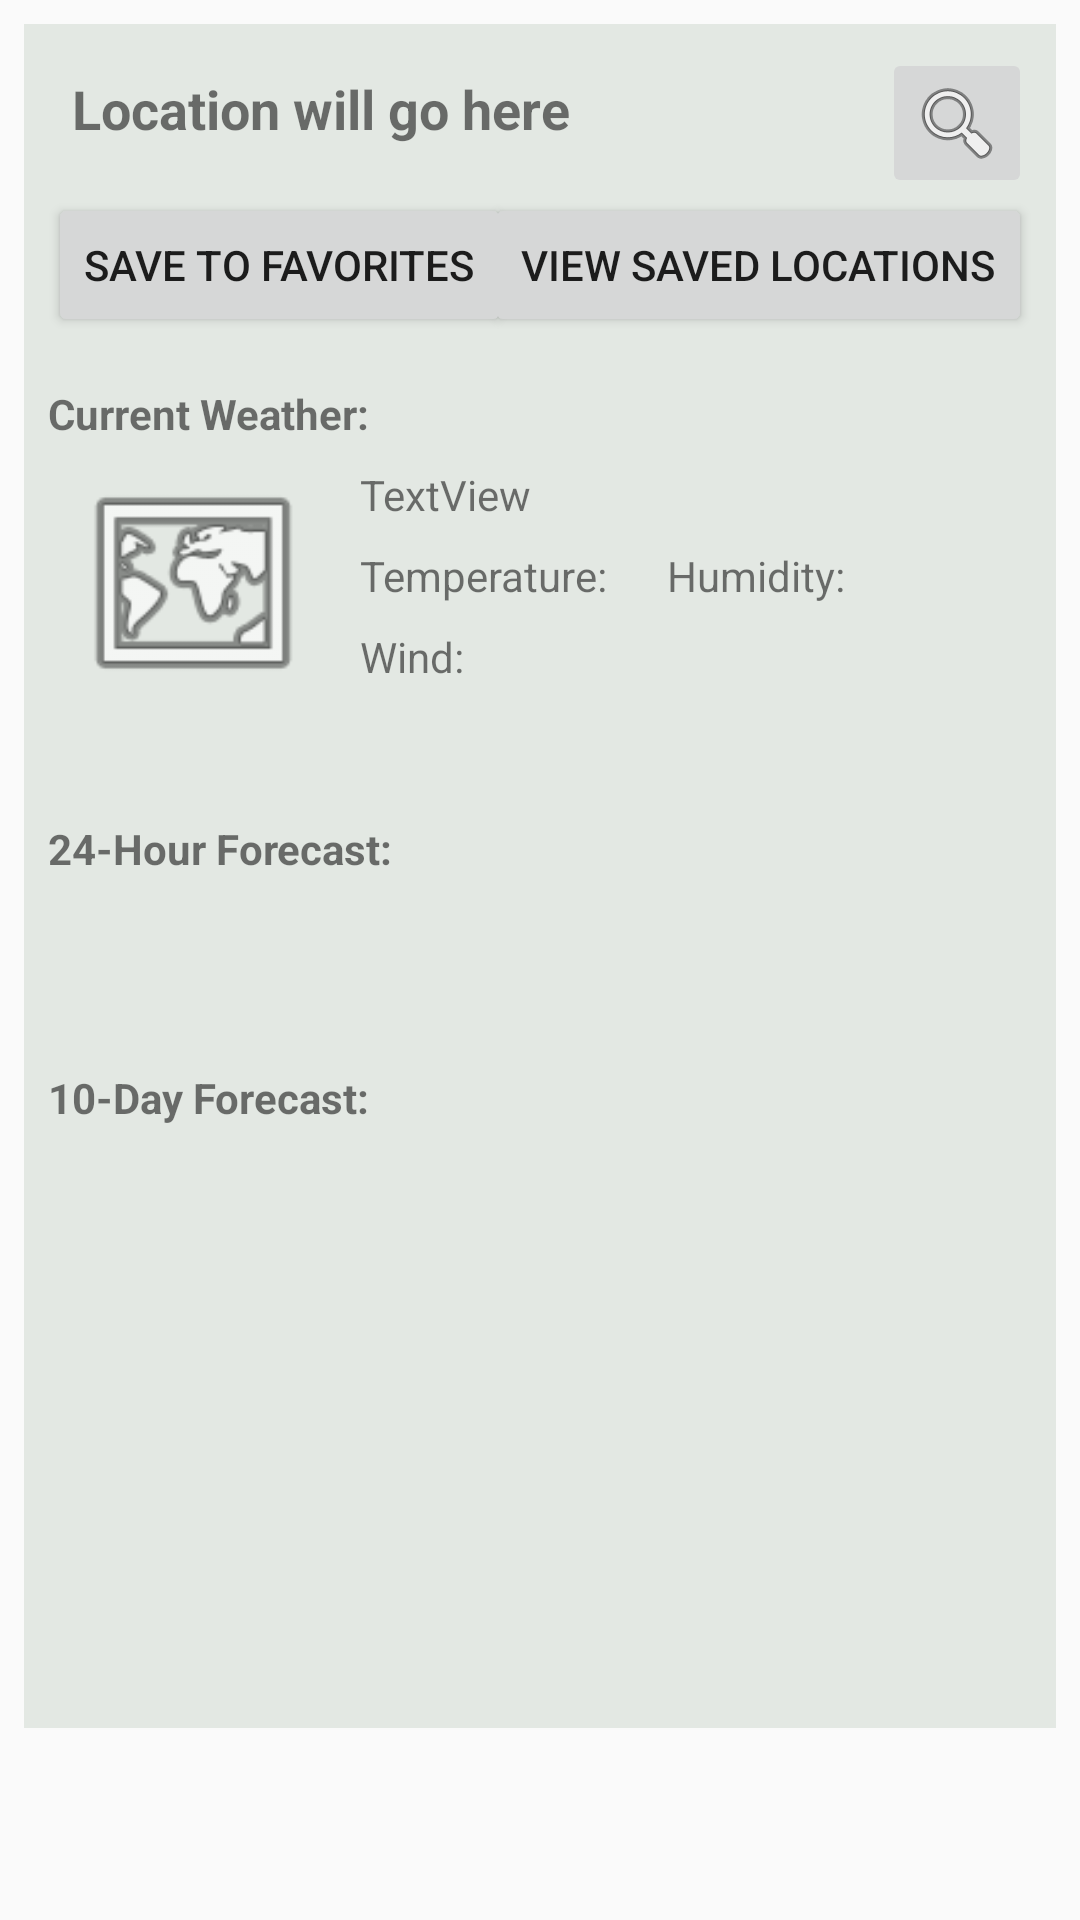

Icons on this 1080 × 1920 Android screen, each with its box as (x1, y1, x2, y2):
mapmode: (94, 497, 292, 669)
